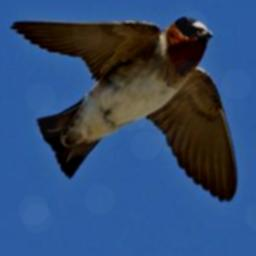Swallow: (8, 16, 241, 204)
